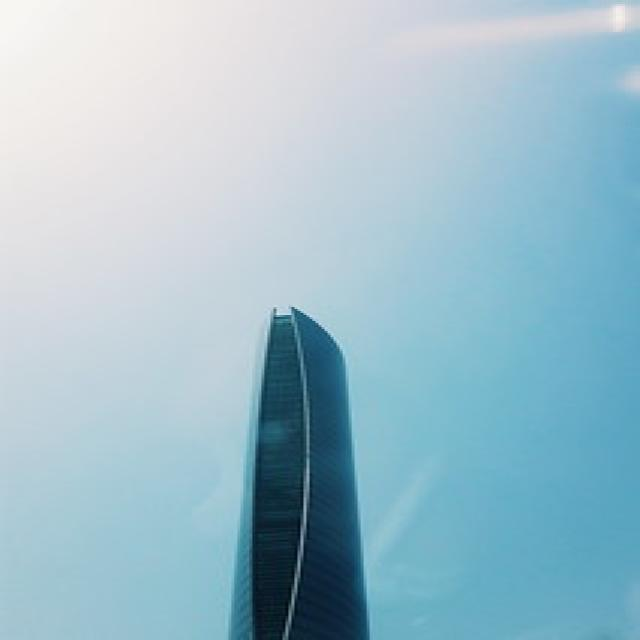building: (221, 303, 380, 640)
